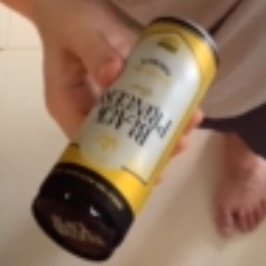blackprincess: (28, 23, 224, 266)
